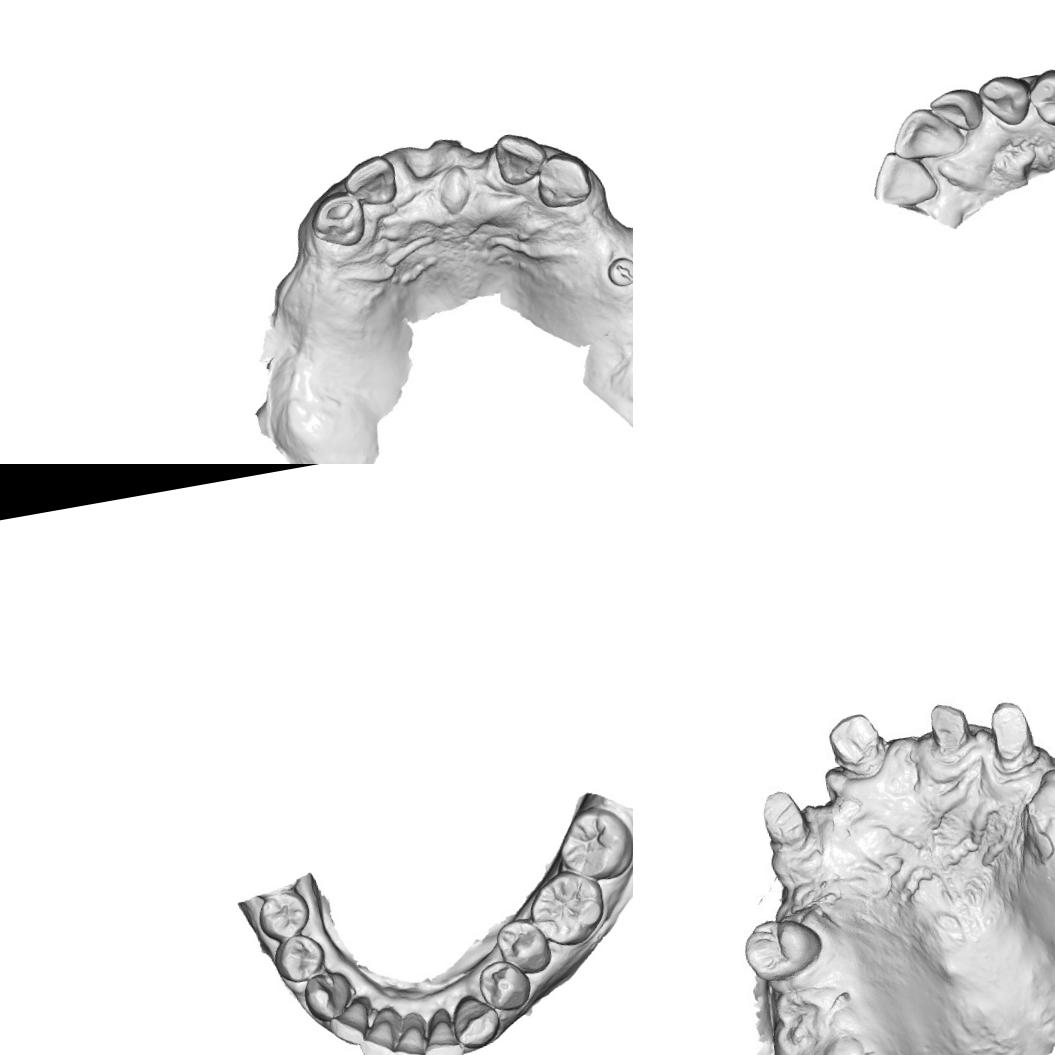canine: (530, 146, 594, 212), (305, 187, 369, 252), (975, 70, 1036, 132), (447, 990, 503, 1052), (300, 968, 356, 1024)
crown: (830, 706, 890, 782), (759, 781, 818, 846), (922, 696, 975, 756), (990, 696, 1038, 756)
implant_minus: (604, 253, 633, 289)
incisor: (866, 143, 940, 213), (887, 101, 967, 165), (491, 127, 551, 188), (338, 152, 400, 210), (926, 83, 986, 137), (324, 993, 376, 1050), (351, 1004, 407, 1055), (415, 1005, 465, 1055), (383, 1012, 430, 1055)
molar: (522, 864, 610, 951), (549, 799, 633, 887)
premolar: (740, 911, 826, 984), (492, 914, 554, 980), (473, 956, 534, 1016), (253, 888, 314, 944), (269, 929, 328, 986), (1024, 64, 1055, 131)
